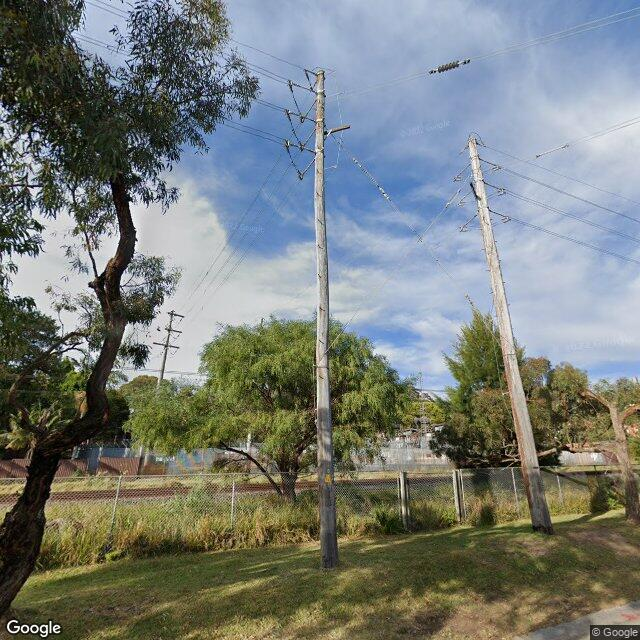HV-transmission: (454, 131, 510, 233), (286, 68, 324, 182)
crossarm: (324, 124, 351, 134), (469, 181, 478, 200), (153, 342, 180, 348), (165, 327, 182, 334), (168, 312, 184, 318)
timber-pole: (467, 136, 553, 533), (314, 71, 340, 568), (157, 310, 173, 388)
